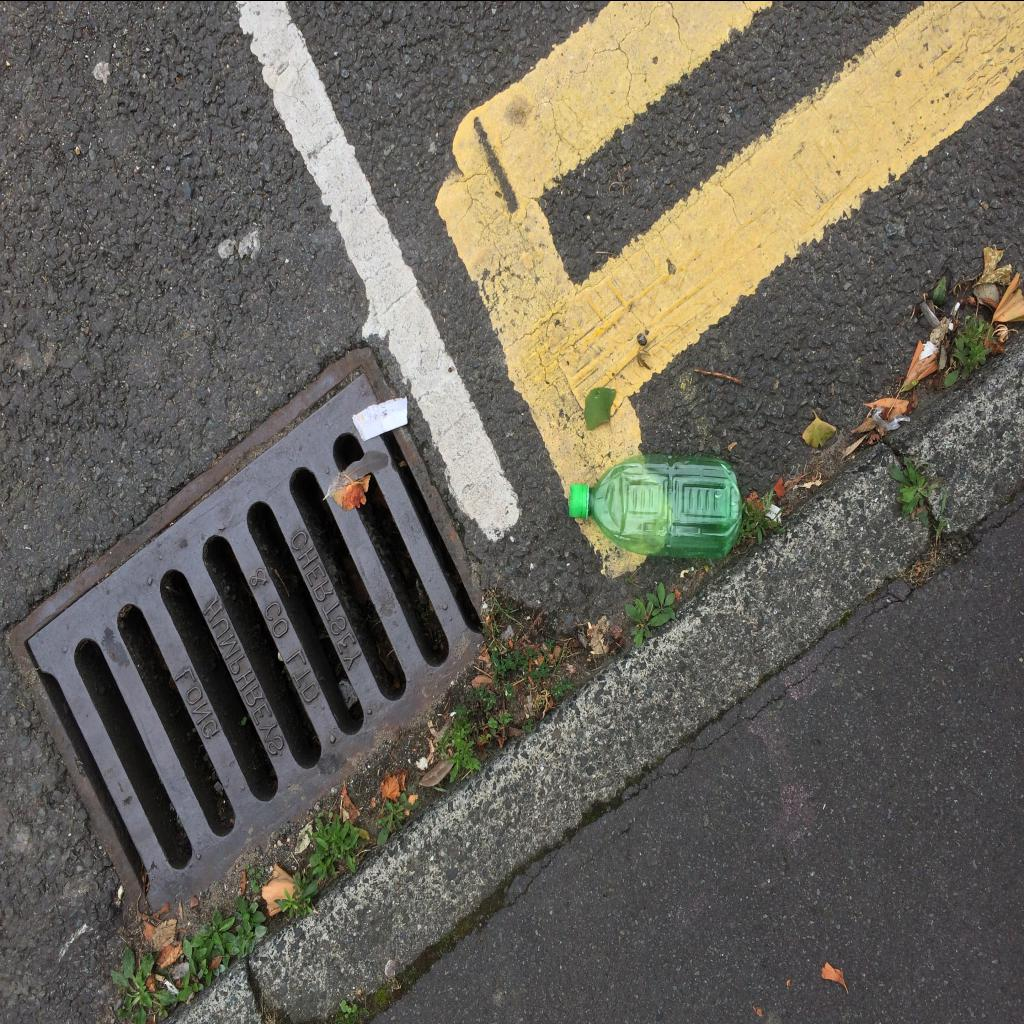Clear plastic bottle: (570, 454, 742, 558)
Normal paper: (352, 398, 408, 440)
